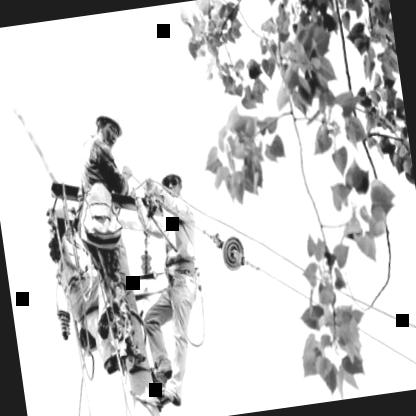helmet: (91, 102, 128, 152), (156, 156, 184, 201)
